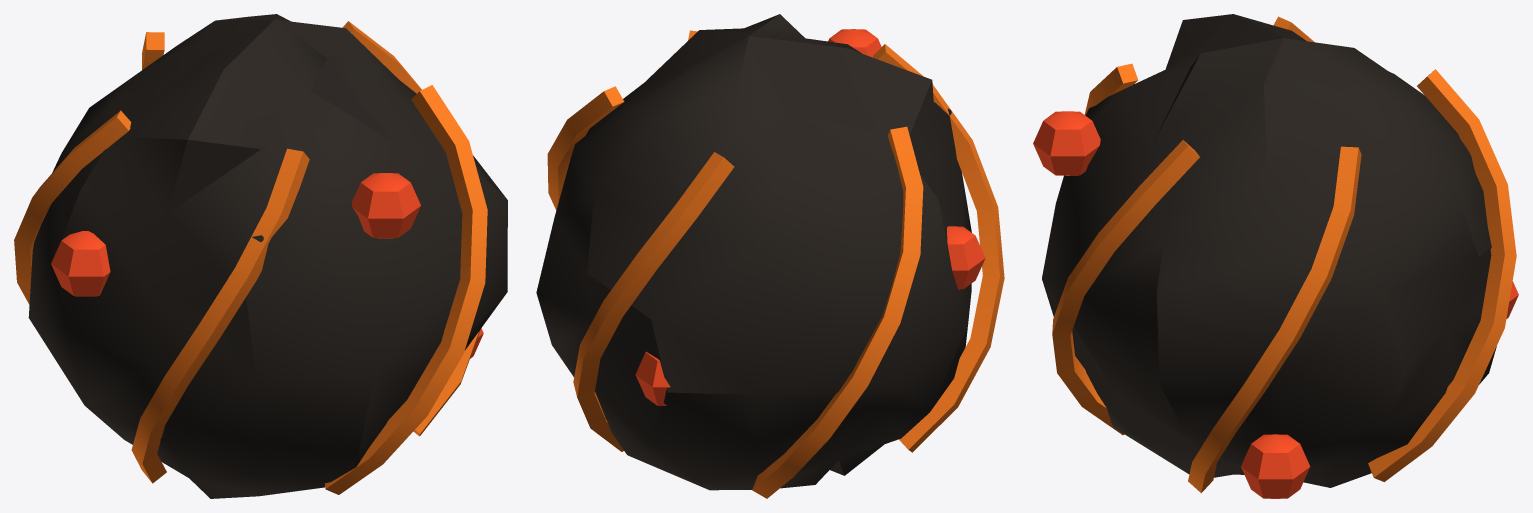
File: 393_meteorite.fbx
3 renders of one model, left to right at view 1: azimuth 30°, elevation 25°; view 2: azimuth 150°, elevation 25°; view 3: azimuth 270°, elevation 25°, orthographic. The views are drawn at different scales.
Parts seen in each view (by area): view 1: Roche, Lave; view 2: Roche, Lave; view 3: Roche, Lave.
Part boxes in pixels (left/top/right/bottom): Roche: left=28, top=14, right=507, bottom=498; Lave: left=14, top=21, right=487, bottom=494; Roche: left=536, top=14, right=971, bottom=490; Lave: left=547, top=29, right=1004, bottom=498; Roche: left=1042, top=14, right=1496, bottom=487; Lave: left=1033, top=16, right=1518, bottom=498.
Size of the model in its own units: 2.24 by 2.24 by 2.24.
1 material, 1 textured.
